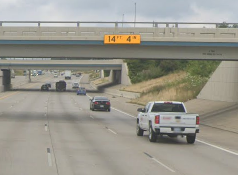1: (106, 34, 111, 44)
4: (124, 34, 132, 44), (110, 35, 117, 43)
overheadsign: (103, 33, 141, 44)
